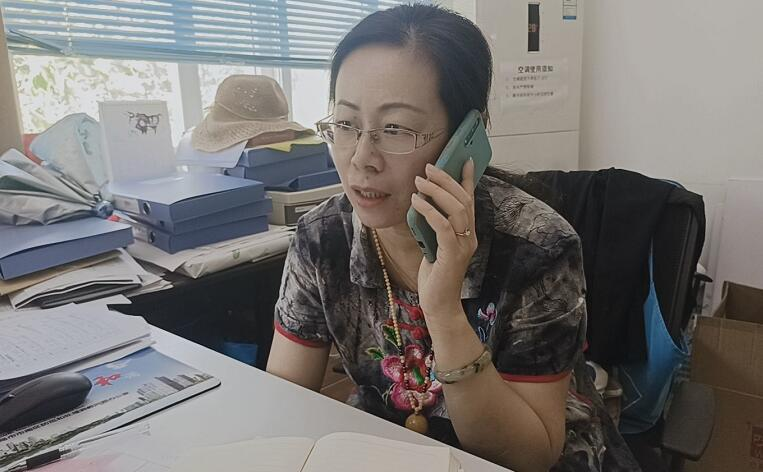calling: (403, 106, 495, 305)
